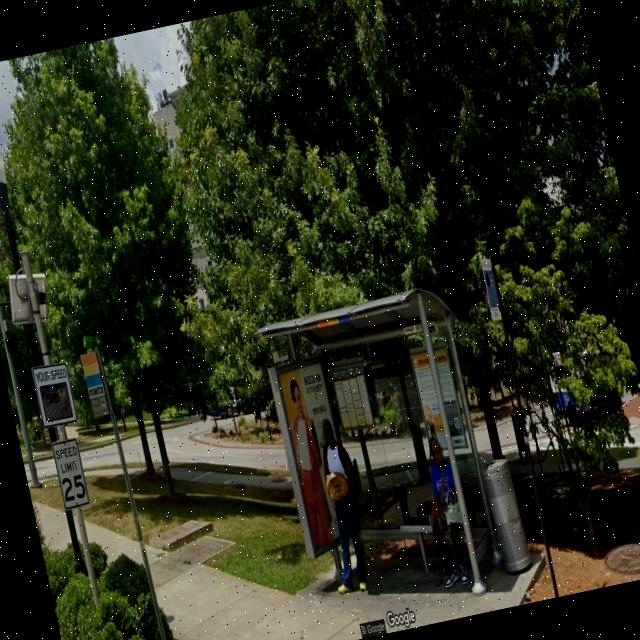seating: (398, 504, 473, 587)
shelter: (255, 282, 512, 631)
trash_can: (480, 456, 533, 574)
